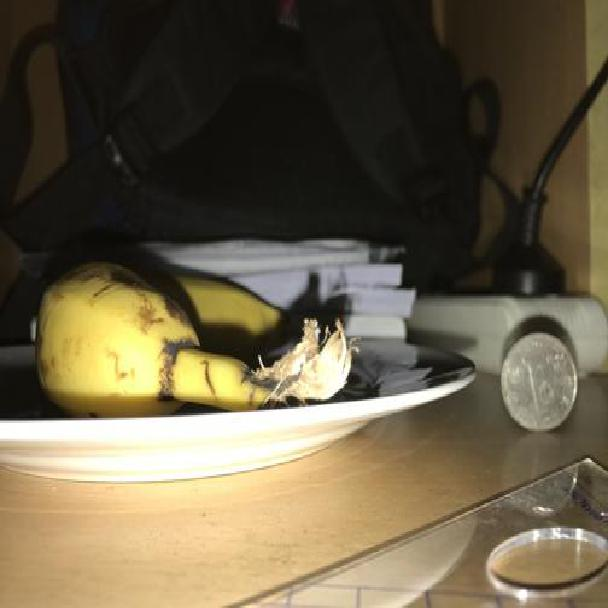banana: (32, 260, 348, 413)
